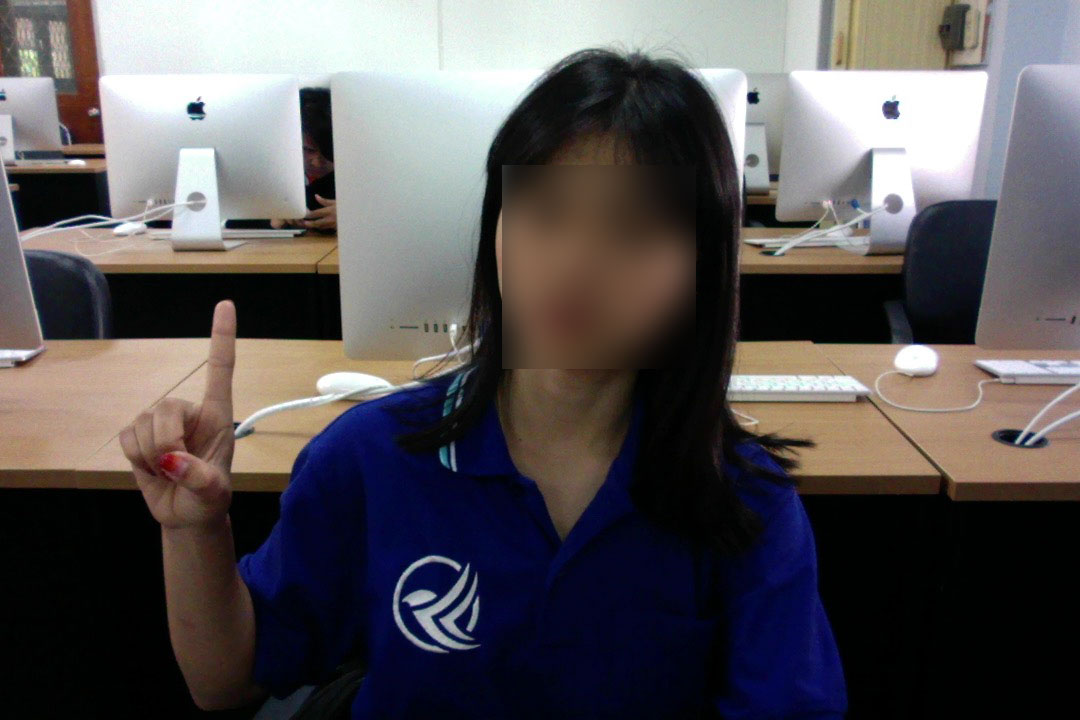dor: (110, 290, 244, 532)
